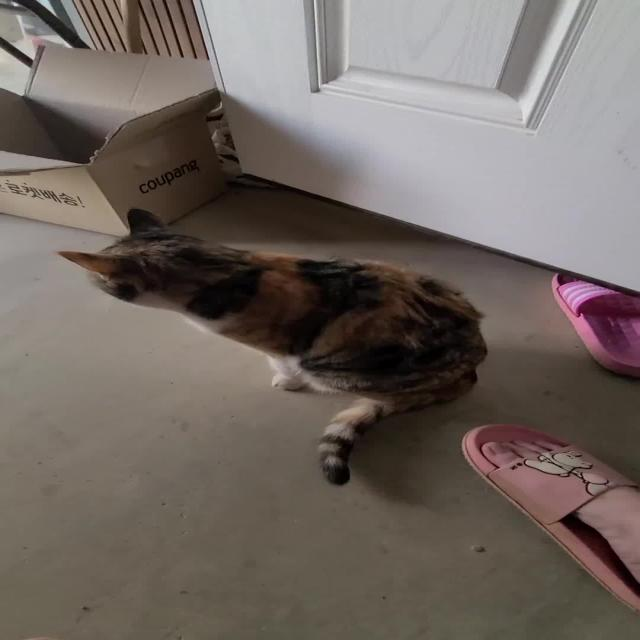cat: (34, 184, 473, 513)
